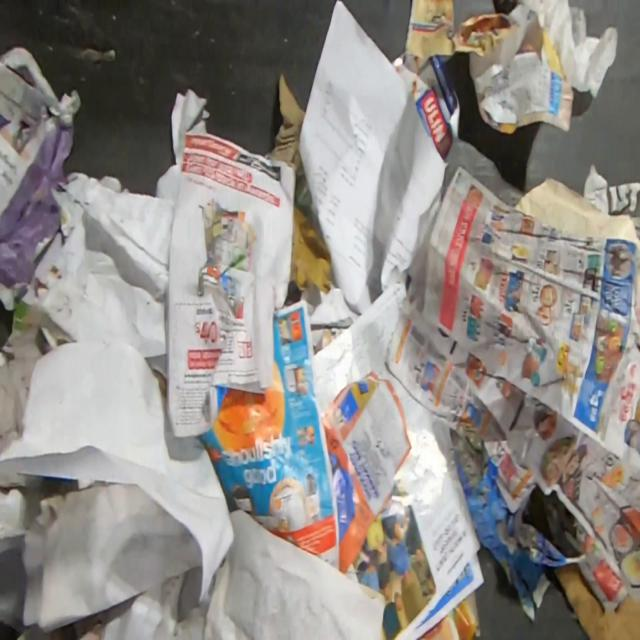cardboard: (552, 562, 640, 640), (269, 71, 307, 177), (290, 202, 332, 294)
soft_plastic: (467, 0, 621, 101), (522, 483, 585, 557)
